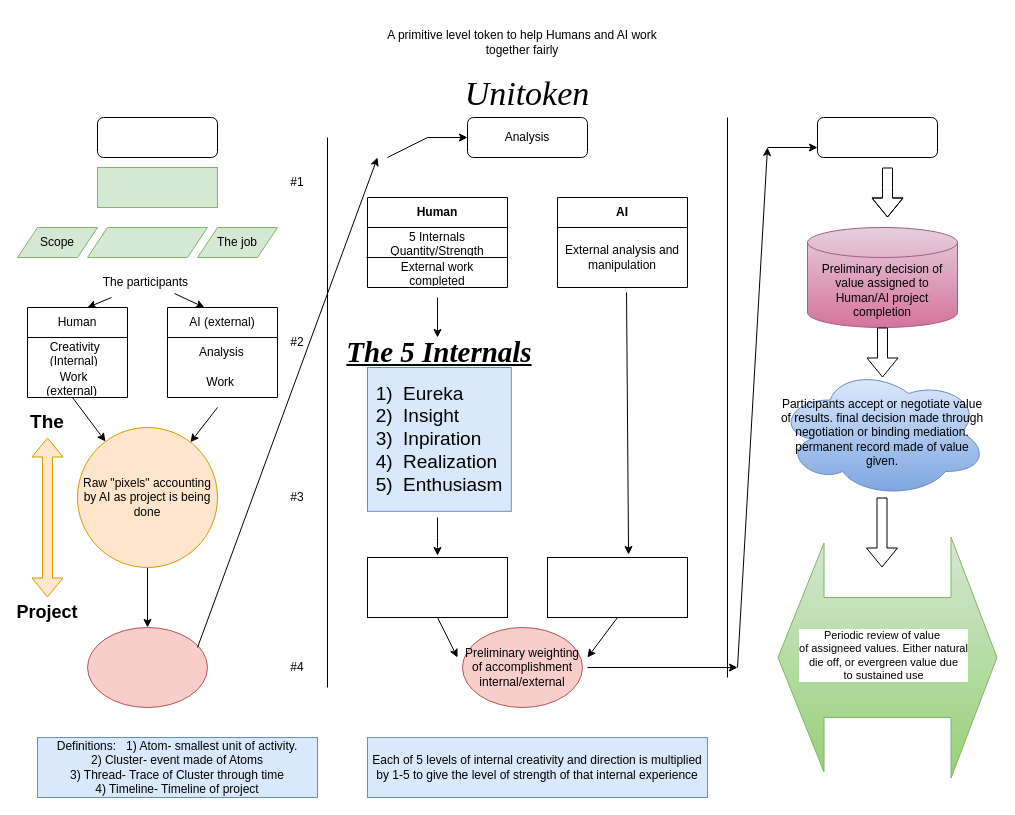
Image size: 1015x815. Some labels were removed from this diagram. The shapes that lost their labels are listed below. From the top down, each one's centre as x and y in pixels, then its label:
[157,137]: Action and actors
[877,137]: Fair scoring
[157,187]: Defining the project
[147,242]: who does what
[437,587]: External work accomplished
[617,587]: AI work in support, organizayion and analysis
[147,667]: Initial grouping "Pixels/Frames Tendrils/Video"
